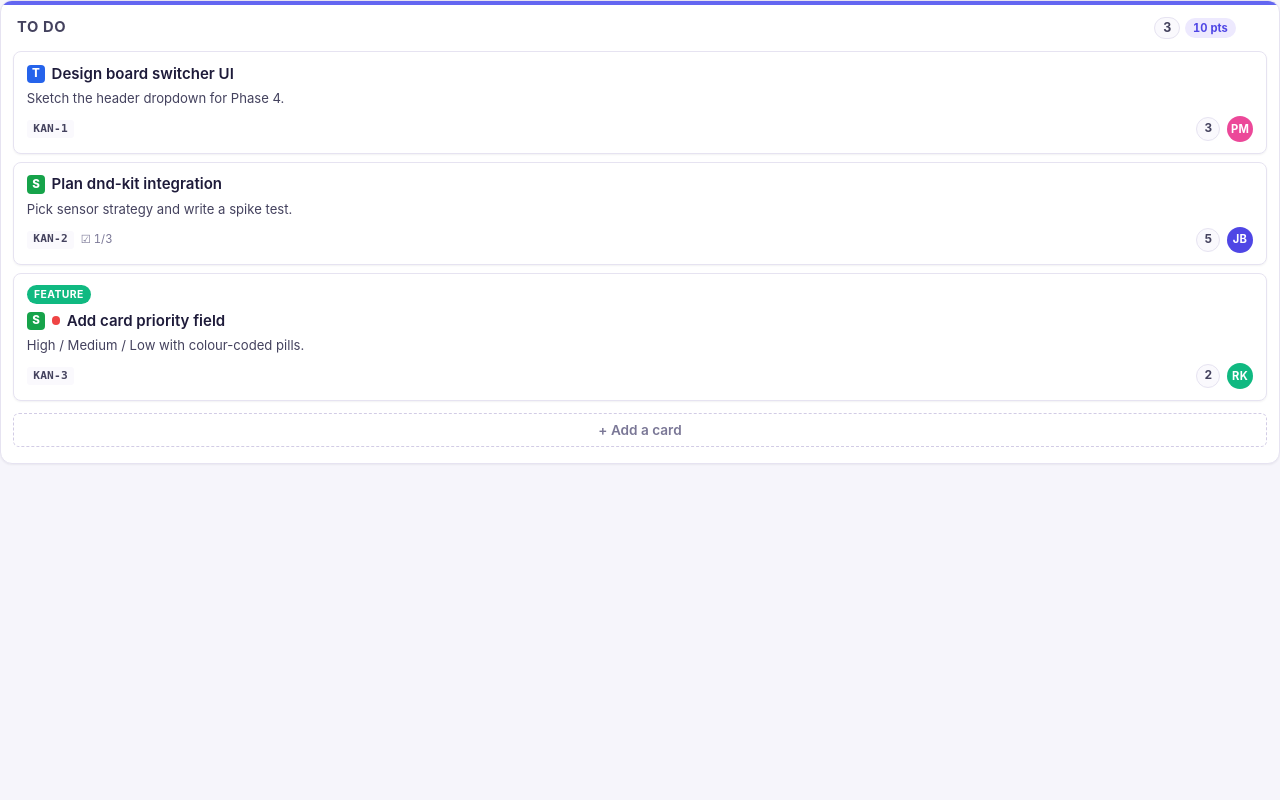
it: KanbanColumn · add a card › opens the add form and appends a new card
Step 1. Click the button with aria-label "Add a card to To Do" → click(640, 430), box [13,413,1267,447]
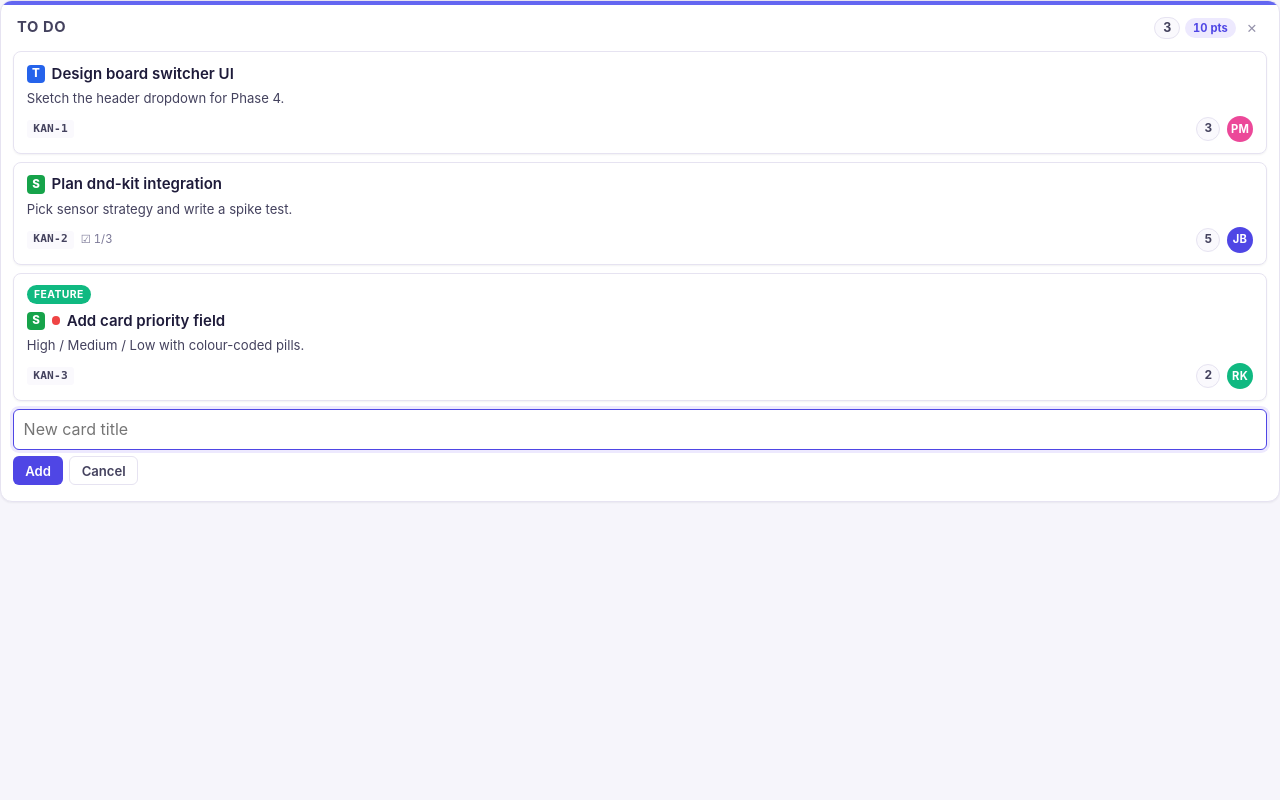
Step 2. Type "New review task" into the field labelled "New card title" → (640, 430), box [13,409,1267,450]
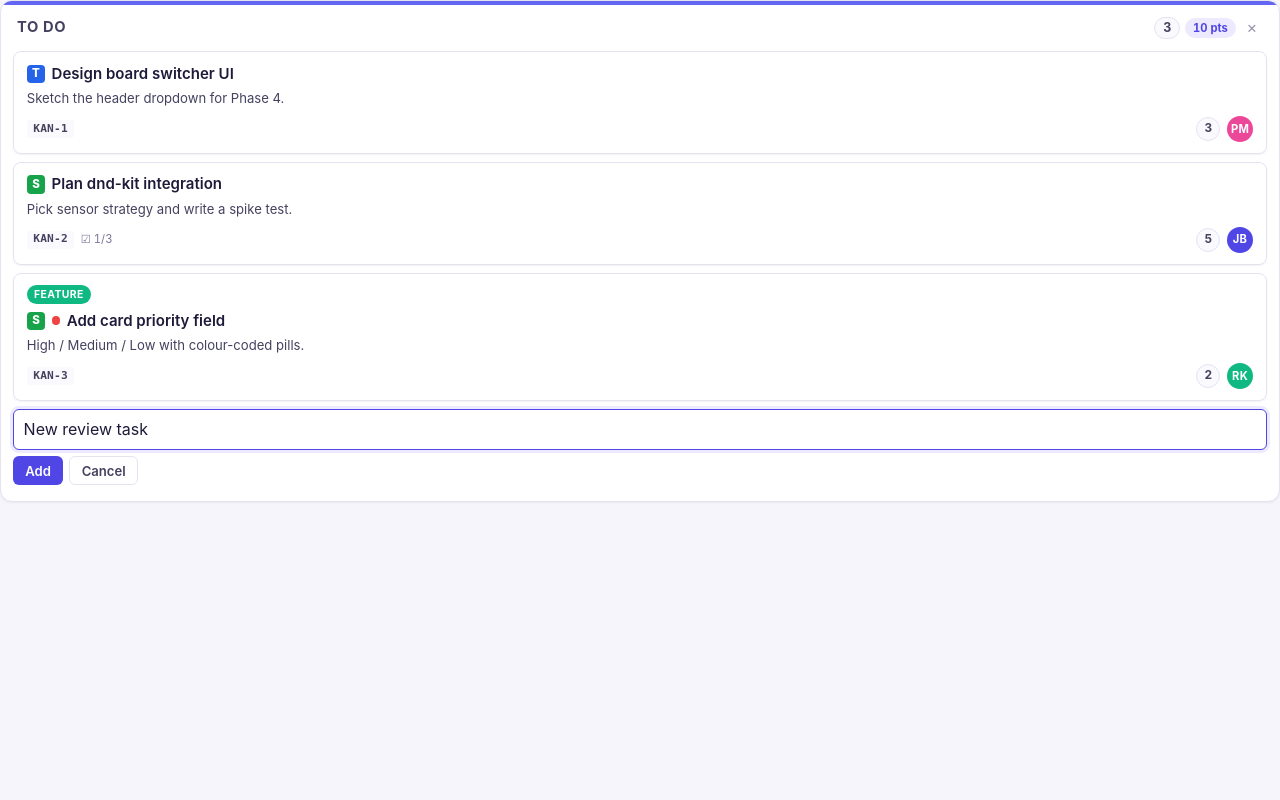
Step 3. Click the button "Add" → click(38, 471), box [13,456,63,485]
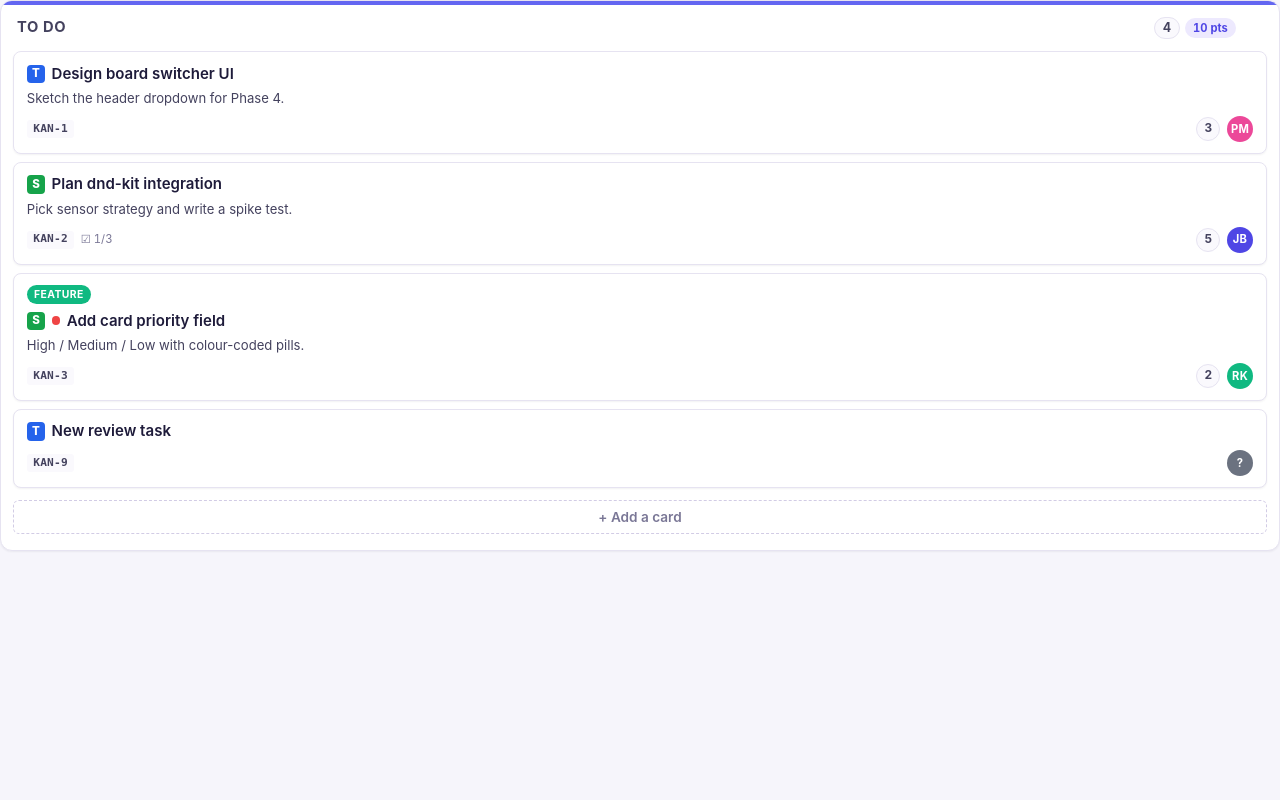
Now the heading "New review task" is shown, box [52,422,171,440]
Now the text named "Card count" reads "4", box [1163,20,1171,35]
